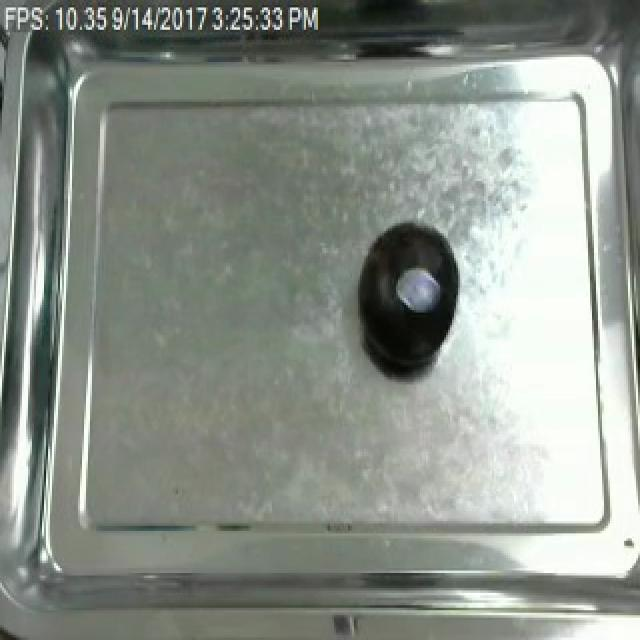Fruit: (350, 216, 464, 377)
